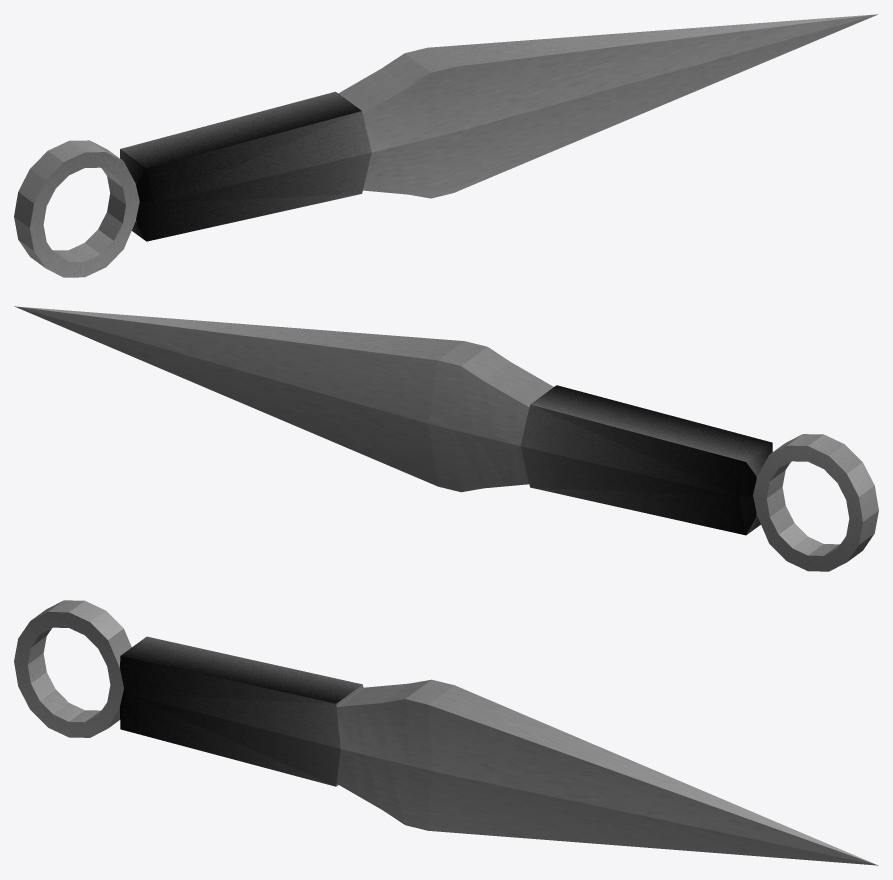
Rendered from ThrowingKnife_Broken.FBX.
The picture shows the model from 3 angles, top to bottom: view 1: azimuth 30°, elevation 25°; view 2: azimuth 150°, elevation 25°; view 3: azimuth 330°, elevation 25°; orthographic projection.
Parts seen in each view (by area): view 1: Knife_Part_1, Knife_Part_2; view 2: Knife_Part_1, Knife_Part_2; view 3: Knife_Part_1, Knife_Part_2.
Boxes of the visible parts, x1,y1,x2,y2 form: Knife_Part_1: (347,14,877,198); Knife_Part_2: (14,88,384,277); Knife_Part_1: (14,306,541,492); Knife_Part_2: (512,380,878,571); Knife_Part_1: (351,679,878,865); Knife_Part_2: (14,600,372,795).
Bounding box in the file's own units: 47.48 × 3.05 × 6.67.
Materials: 3 (2 with a texture image).
